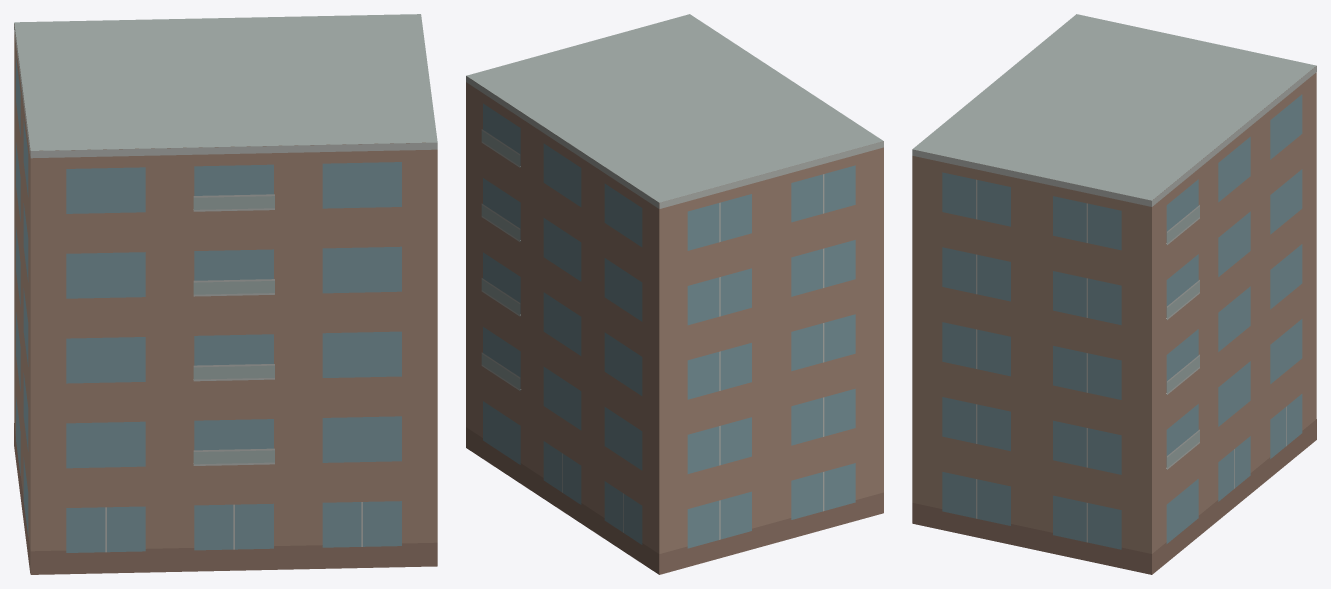
The model's file is survey-upis-32884952.glb.
3 views of the same model, side by side, from view 1: azimuth 30°, elevation 25°; view 2: azimuth 150°, elevation 25°; view 3: azimuth 270°, elevation 25° (orthographic). The views are drawn at different scales.
Visible parts, largest first — view 1: survey-upis-32884952.tmp; view 2: survey-upis-32884952.tmp; view 3: survey-upis-32884952.tmp.
Part boxes in pixels (x1,y1,x2,y2): survey-upis-32884952.tmp: (14, 14, 437, 574); survey-upis-32884952.tmp: (466, 14, 883, 574); survey-upis-32884952.tmp: (912, 14, 1316, 574).
Bounding box in the file's own units: 15.3 × 14.3 × 14.02.
